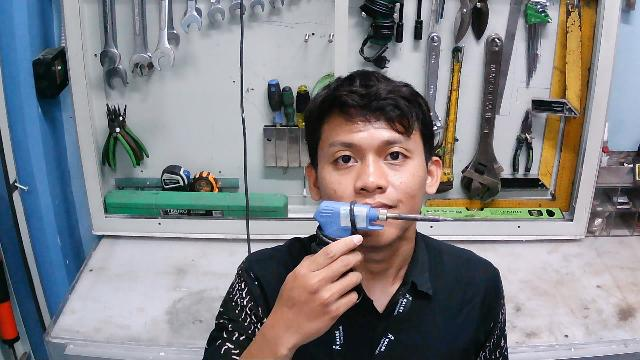solder_electrical: (310, 200, 454, 274)
